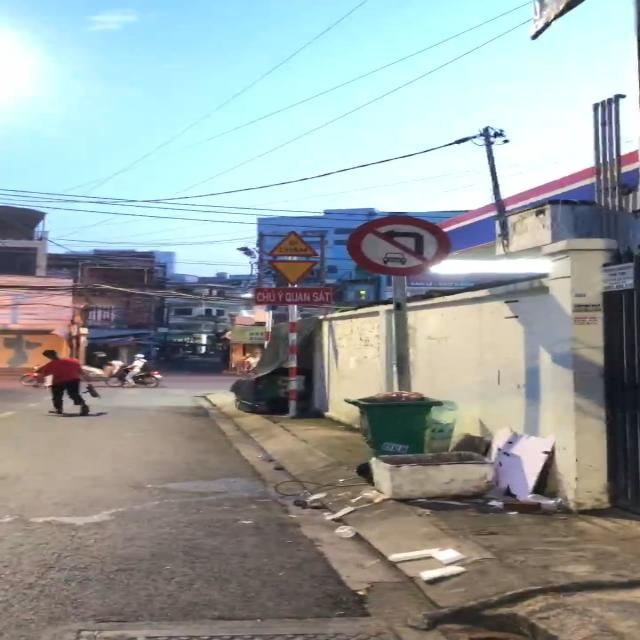Bien bao cam xe o to re trai: (344, 216, 460, 276)
Bien bao di cham: (260, 230, 320, 260)
Bien bao giao nhau voi duong uu tien: (262, 256, 321, 286)
